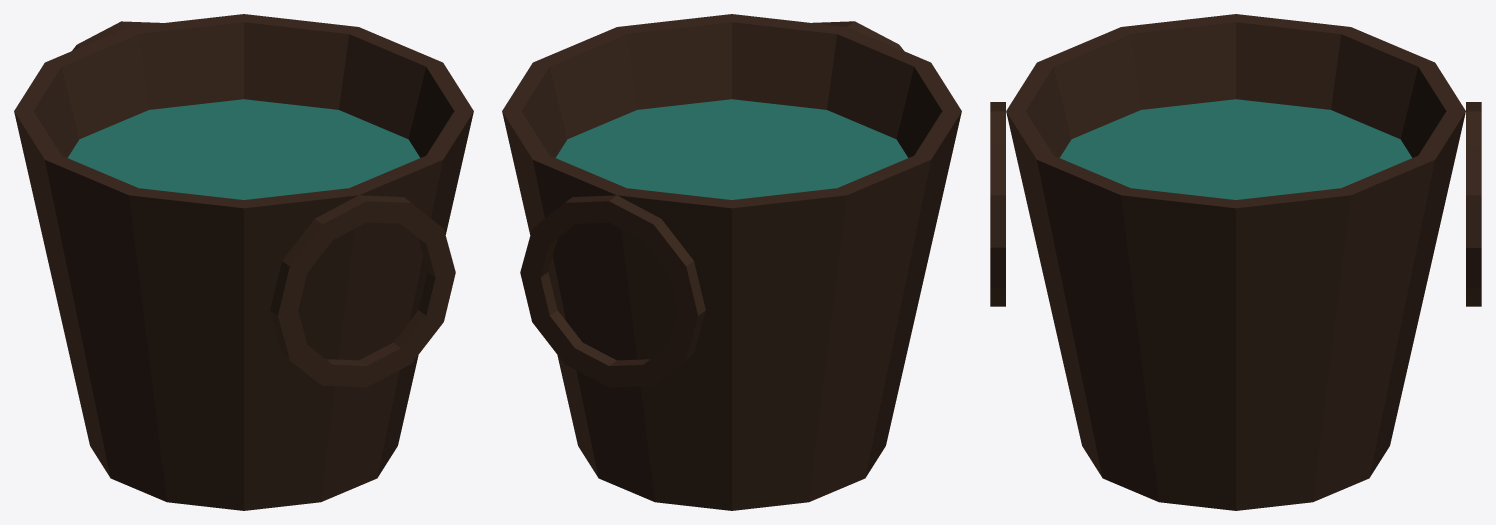
The model's file is Secchio + acqua .fbx.
The picture shows the model from 3 angles, left to right: view 1: azimuth 30°, elevation 25°; view 2: azimuth 150°, elevation 25°; view 3: azimuth 270°, elevation 25°; orthographic projection.
Parts seen in each view (by area): view 1: Secchio + acqua; view 2: Secchio + acqua; view 3: Secchio + acqua.
Boxes of the visible parts, x1,y1,x2,y2 form: Secchio + acqua: (14,14,473,510); Secchio + acqua: (502,14,961,510); Secchio + acqua: (990,14,1481,510).
Size of the model in its own units: 80.5 by 64.65 by 86.01.
